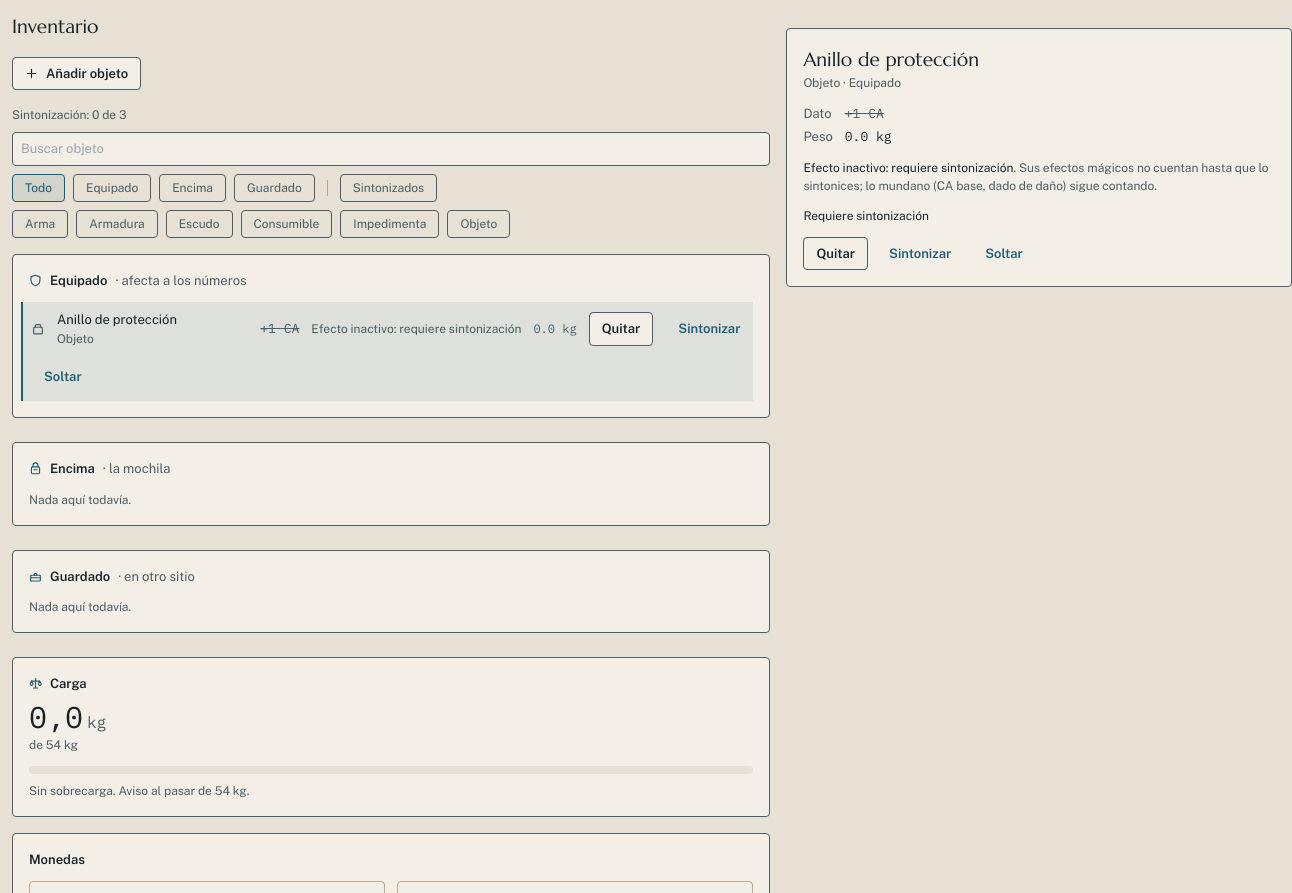
Test: PaginaDeInventario — a página (tarea 9) › HP-2: un rechazo del servidor a «Sintonizar» desde el detalle se lee DENTRO del detalle
Click the button with aria-label "Sintonizar con Anillo" at coordinates (920, 253), box x1=876 y1=236 x2=964 y2=270
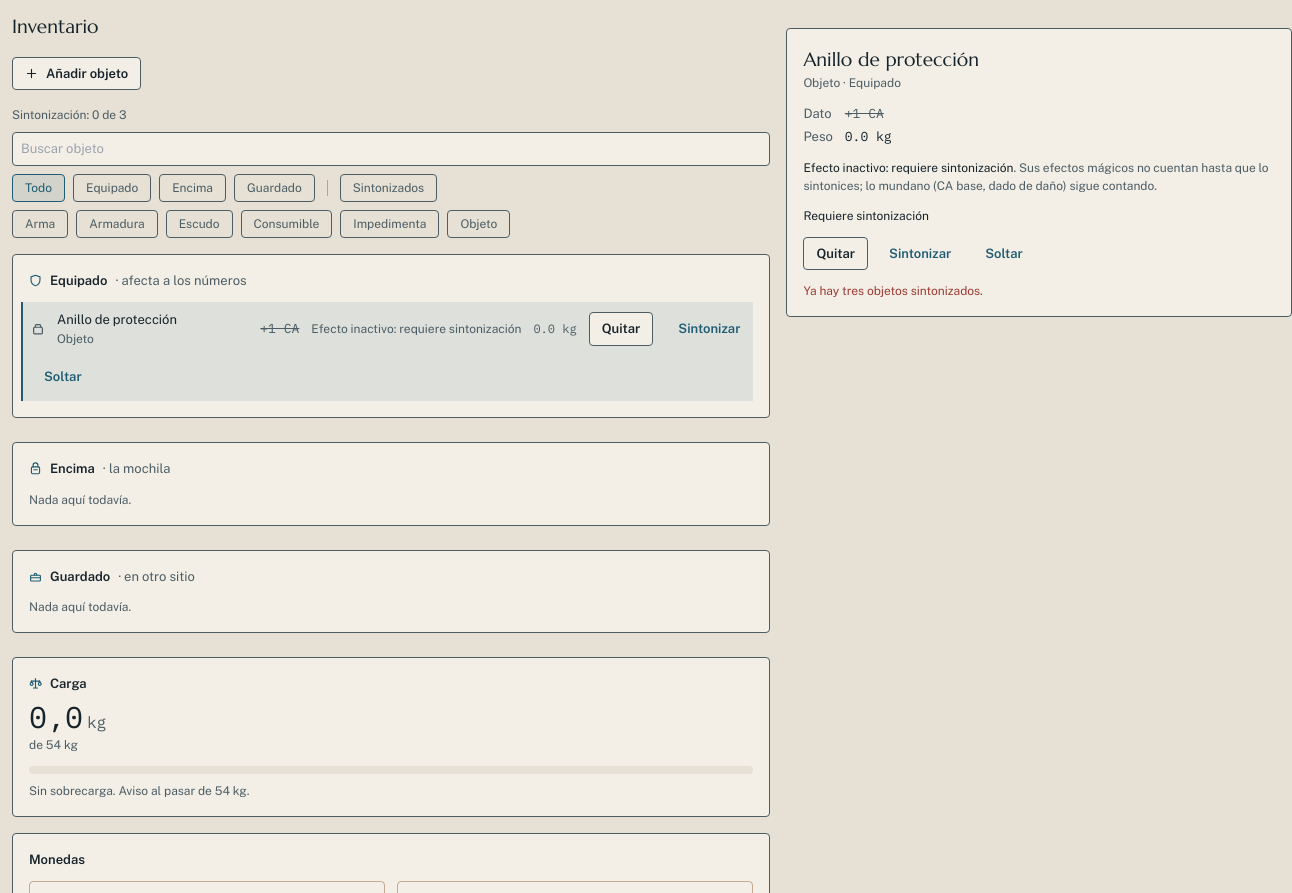
Now the message reads "Ya hay tres objetos sintonizados.", box x1=803 y1=284 x2=983 y2=298
Now the number of messages is 1, box x1=803 y1=284 x2=983 y2=298
